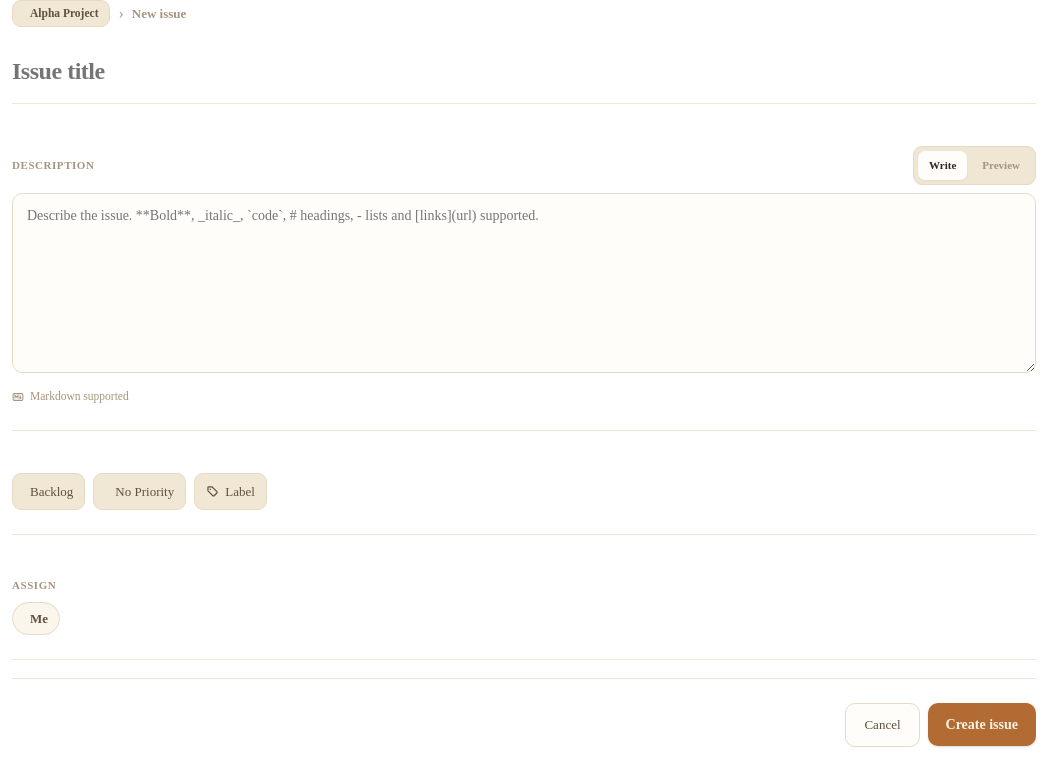
Test: CreateIssueForm › closes the status popover after selecting an option
Click the button with aria-label "status:": (49, 491) [12,473,85,510]
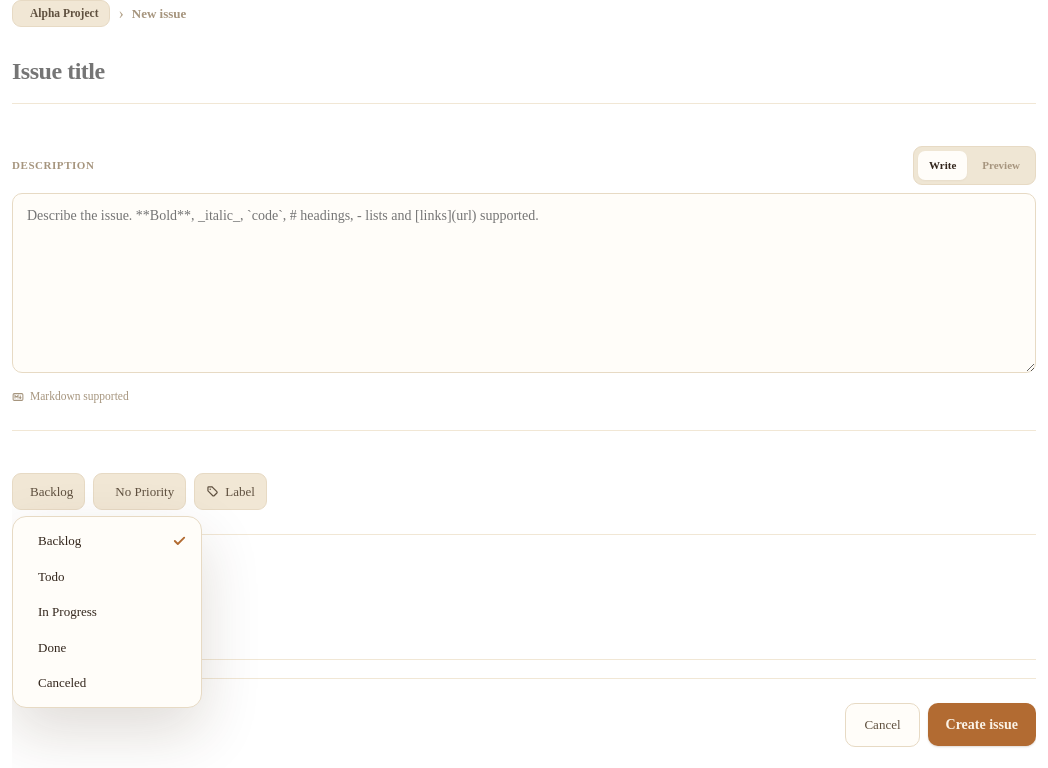
Click the option "Todo": (107, 576) [19,559,195,594]
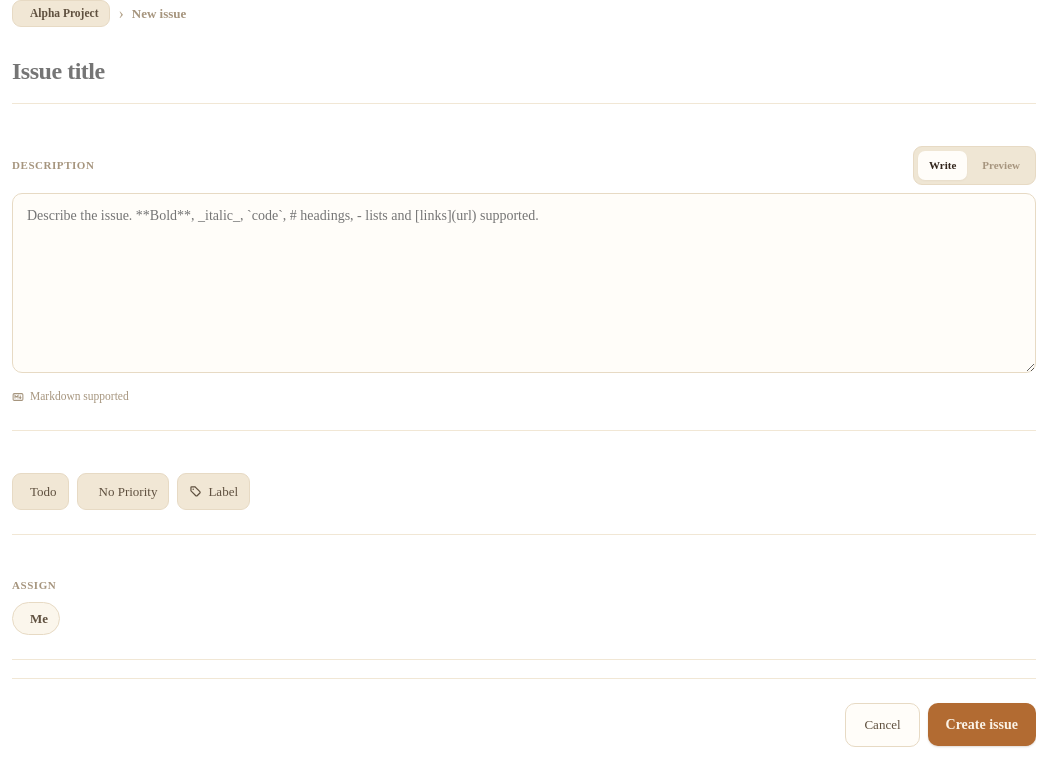
expect the list is gone: met
